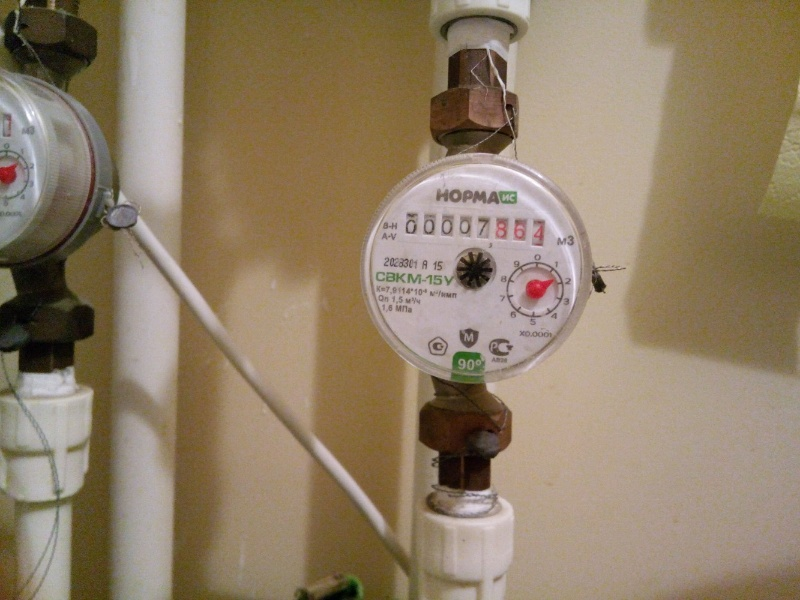meter: (405, 212, 546, 244)
